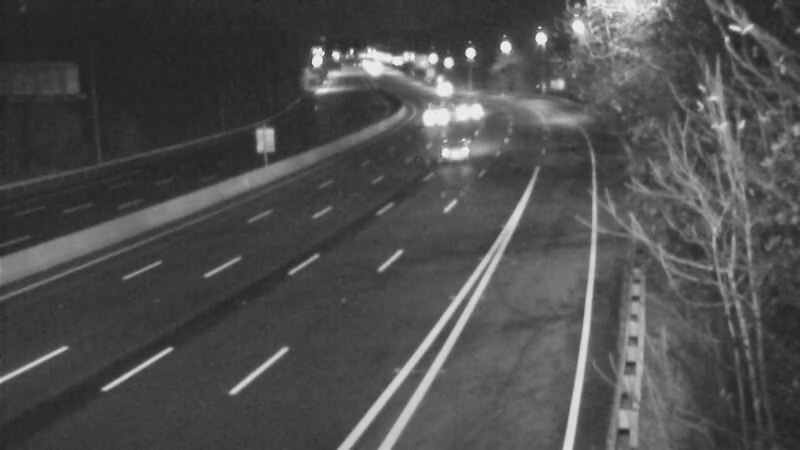vehicle: (410, 117, 490, 197), (422, 62, 472, 112), (444, 88, 494, 138), (406, 92, 456, 142)
